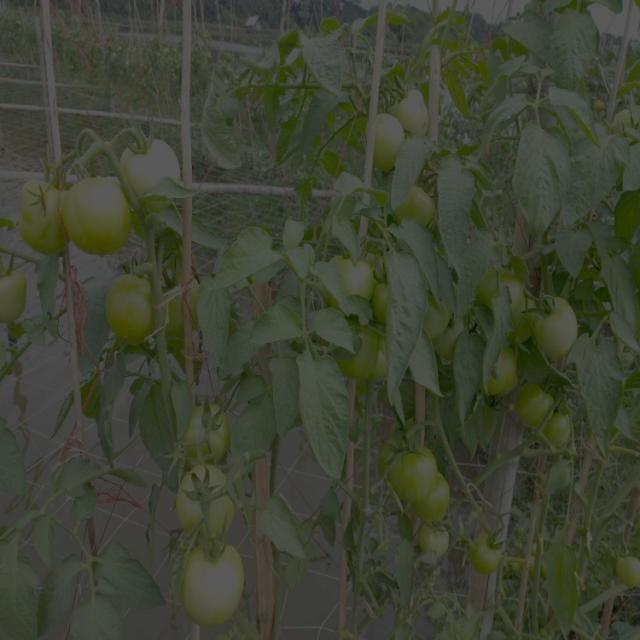tomato: (64, 171, 137, 259), (184, 536, 247, 624), (177, 459, 238, 545), (22, 174, 73, 256), (103, 277, 162, 347), (535, 283, 577, 361), (387, 441, 441, 499), (119, 131, 178, 181), (390, 87, 437, 141), (185, 403, 228, 459), (508, 271, 543, 339), (513, 377, 562, 424), (421, 473, 458, 531), (370, 108, 407, 165), (346, 331, 382, 385), (470, 524, 502, 582), (542, 404, 577, 455), (1, 258, 28, 324), (399, 189, 439, 232), (423, 519, 457, 562), (336, 255, 369, 298), (489, 348, 516, 398), (371, 276, 394, 328), (614, 546, 638, 592)
